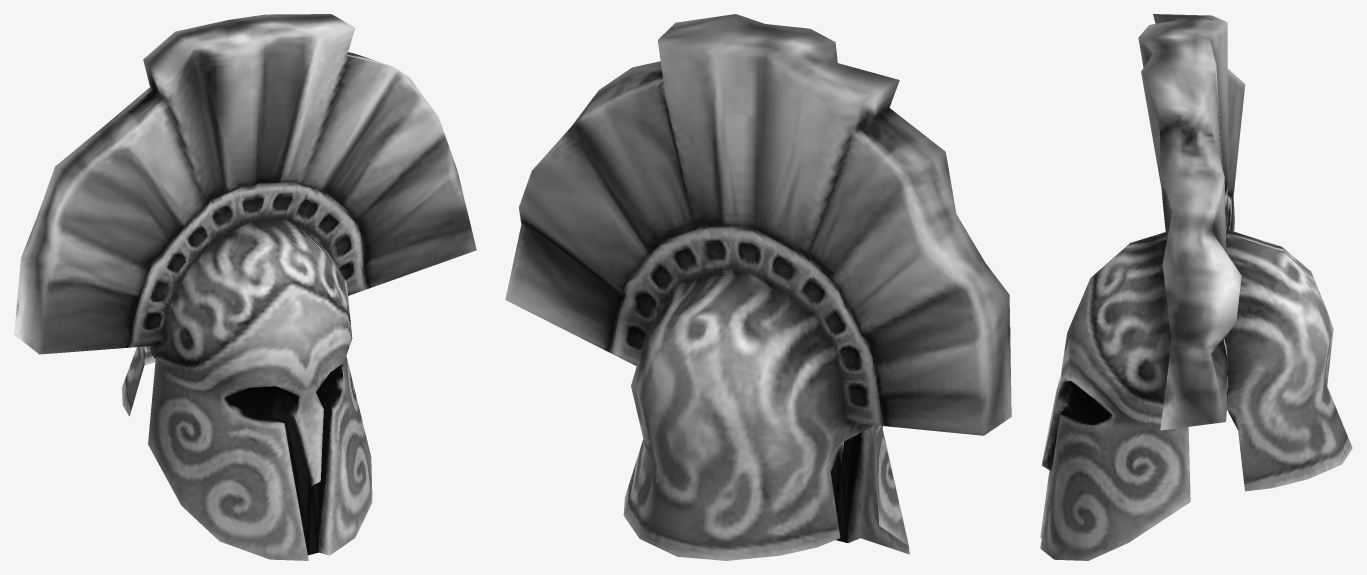
Rendered from helmet-championinfantry.glb.
The picture shows the model from 3 angles, left to right: view 1: azimuth 30°, elevation 25°; view 2: azimuth 150°, elevation 25°; view 3: azimuth 270°, elevation 25°; orthographic projection. The views are drawn at different scales.
Size of the model in its own units: 0.5858 by 0.6332 by 0.3568.
1 material, 1 textured.
